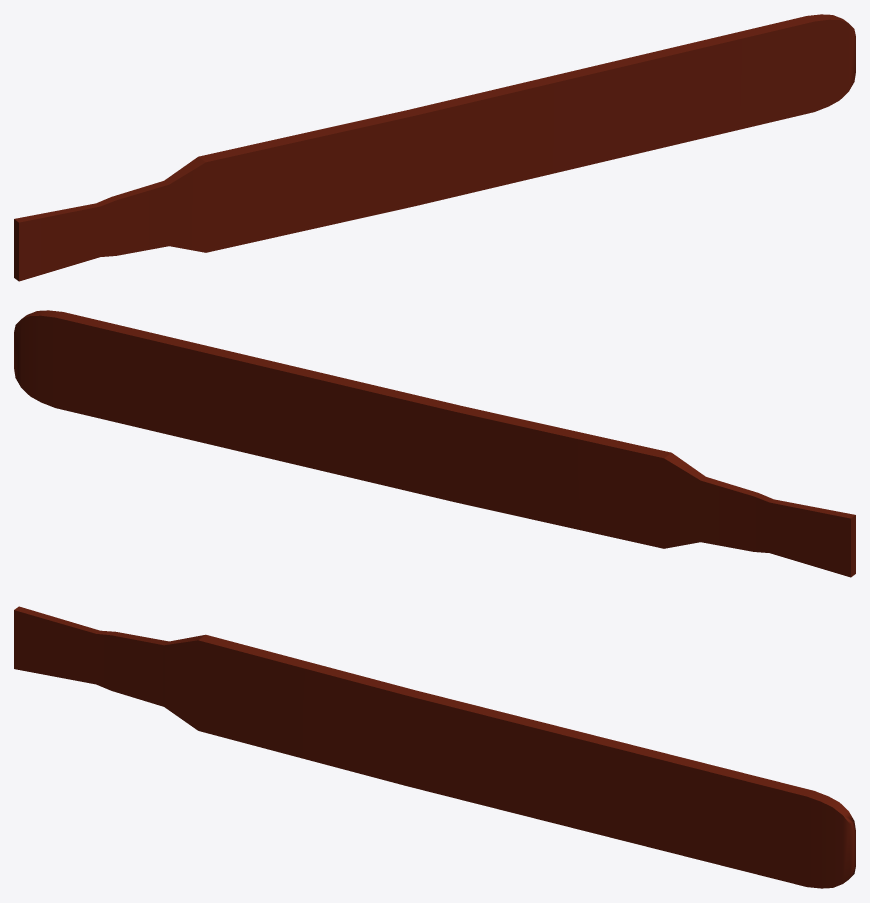
The model's file is Porrete_de_Madeira.fbx.
The picture shows the model from 3 angles, top to bottom: view 1: azimuth 30°, elevation 25°; view 2: azimuth 150°, elevation 25°; view 3: azimuth 330°, elevation 25°; orthographic projection.
Visible parts, largest first — view 1: Plane; view 2: Plane; view 3: Plane.
Boxes of the visible parts, x1,y1,x2,y2 form: Plane: (14, 14, 855, 281); Plane: (14, 310, 855, 577); Plane: (14, 606, 855, 888).
Size of the model in its own units: 268 by 30.06 by 4.27.
